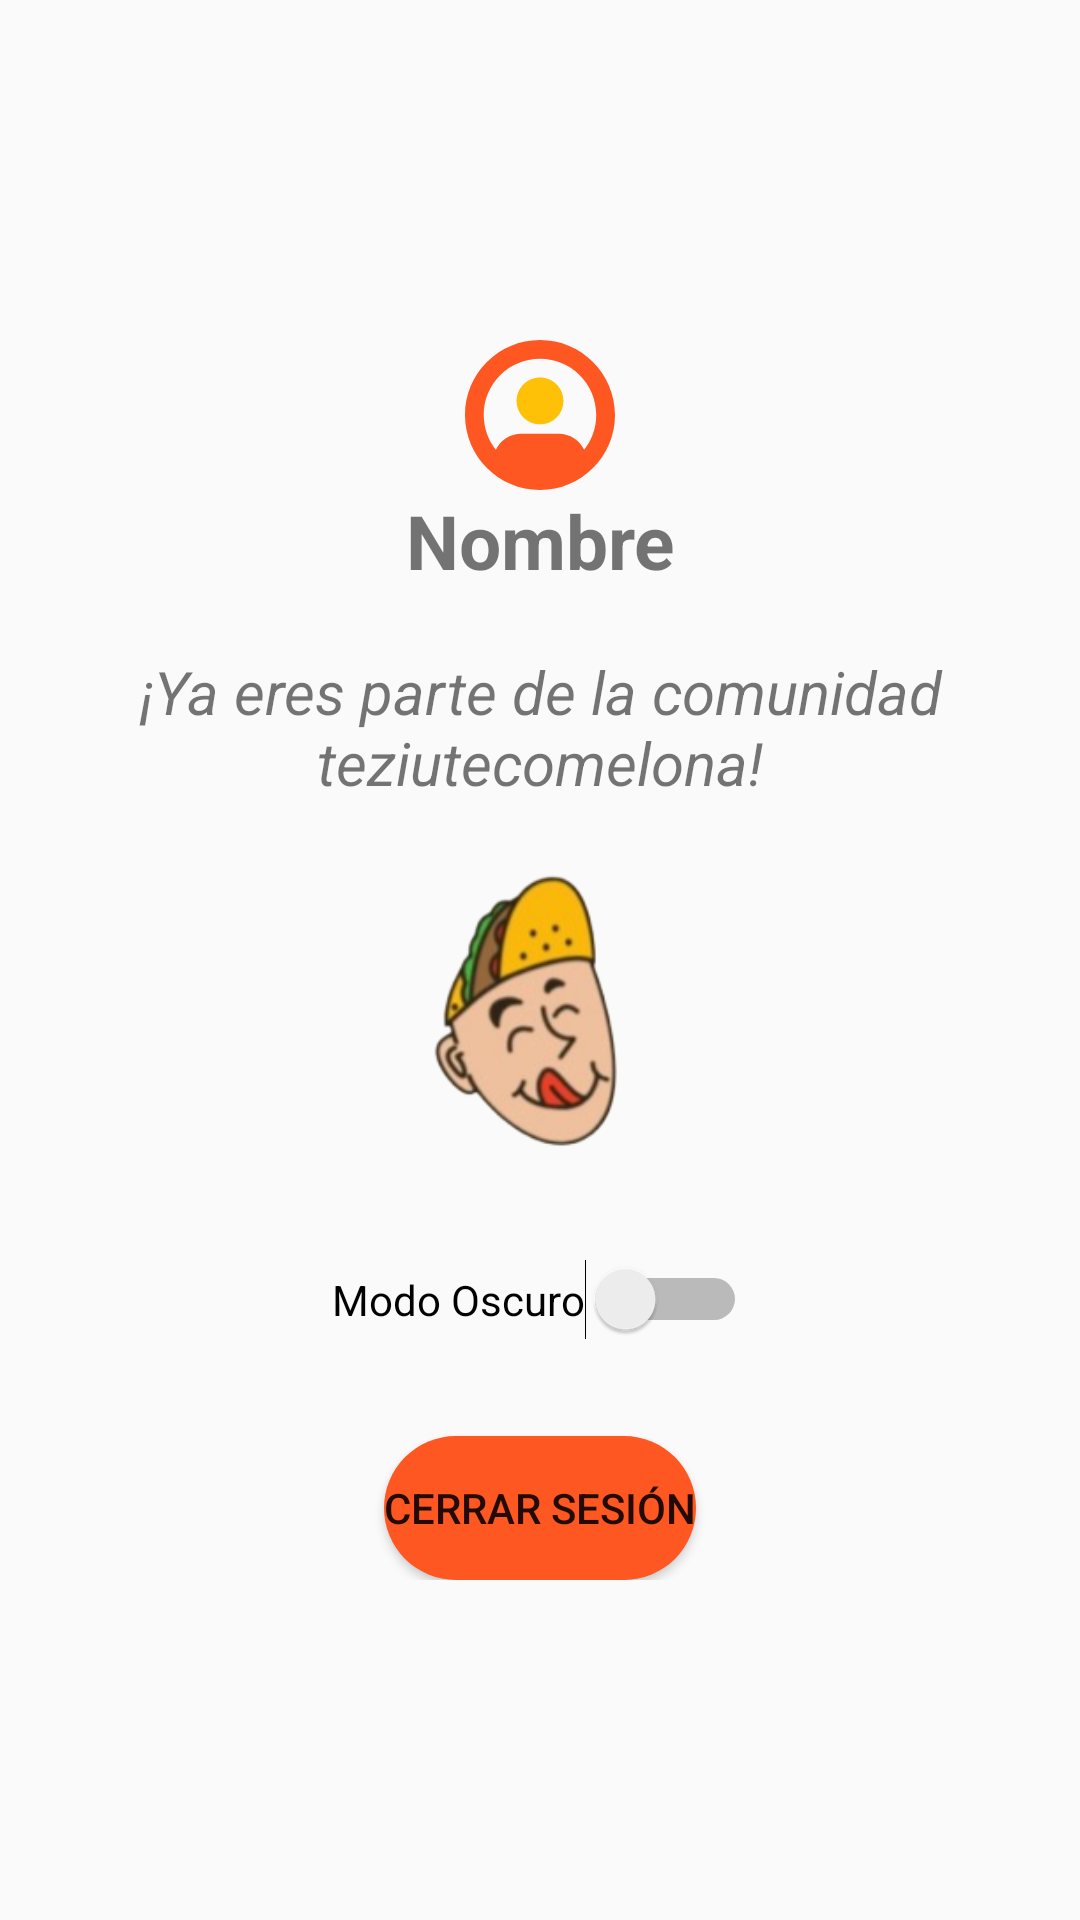

Named icons in this screenshot (1080 x 1920) and their bounding boxes, (x1, y1, x2, y2):
user: (465, 340, 615, 490)
